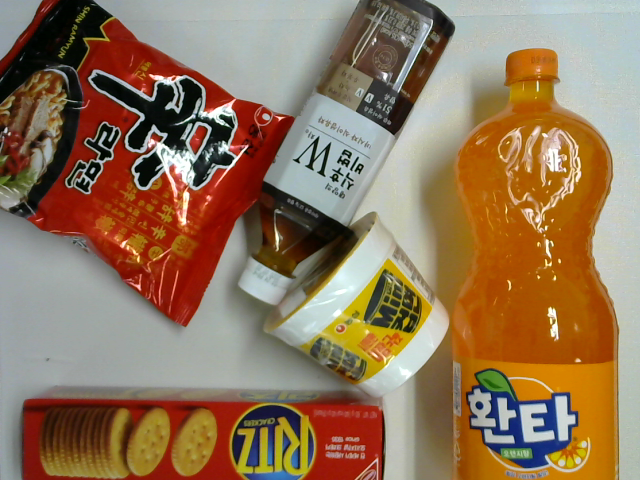Hejangmini: (260, 212, 450, 403)
Hwanta_Orange_1.5L: (452, 48, 618, 480)
Post-meal_recipe_W_tea_500ml: (237, 1, 457, 308)
Ritz_Cracker: (21, 387, 385, 480)
Sinramen: (1, 1, 296, 326)
